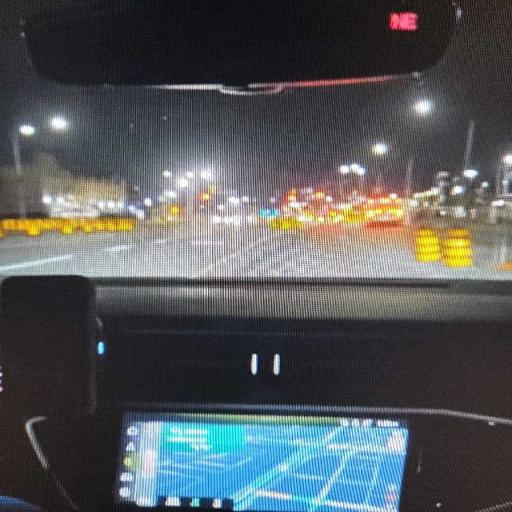car: (0, 0, 511, 511), (488, 196, 511, 223)
lane: (0, 224, 511, 279)
